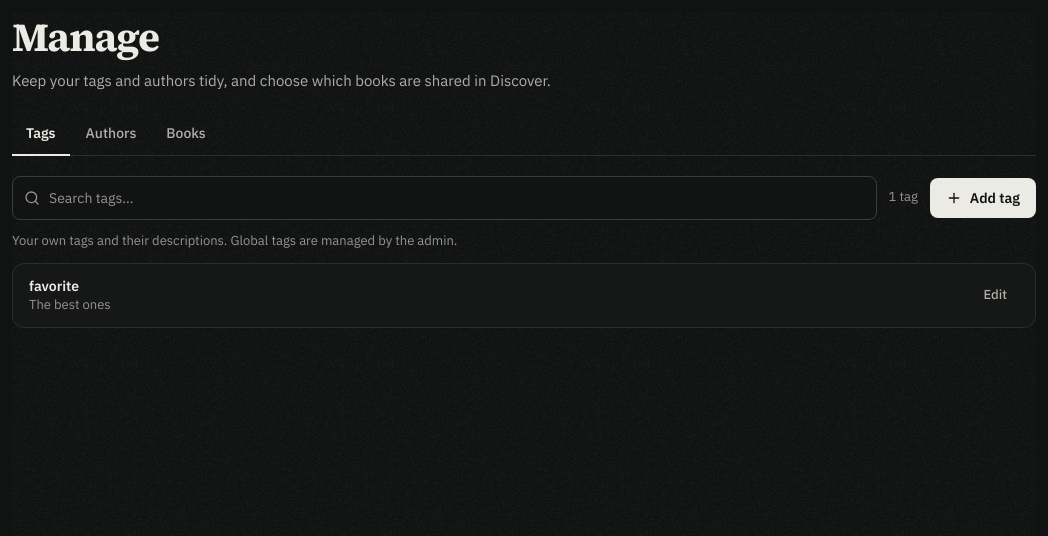
Scenario: ManagePage › renders the server order and blocks incomplete listings
The image size is (1048, 536).
Step 1. Click the tab "Books" → (186, 134), box 152,112 -> 220,156
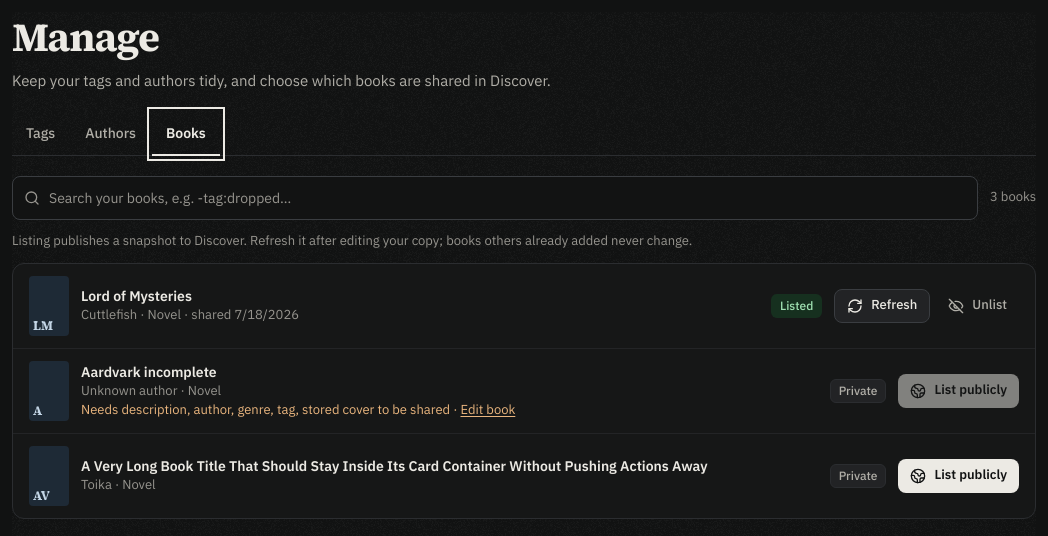
expect the text "Listed" is shown: met, box 771,294 -> 822,318
expect the button with aria-label "List Aardvark incomplete" is disabled: met, box 898,374 -> 1019,408
